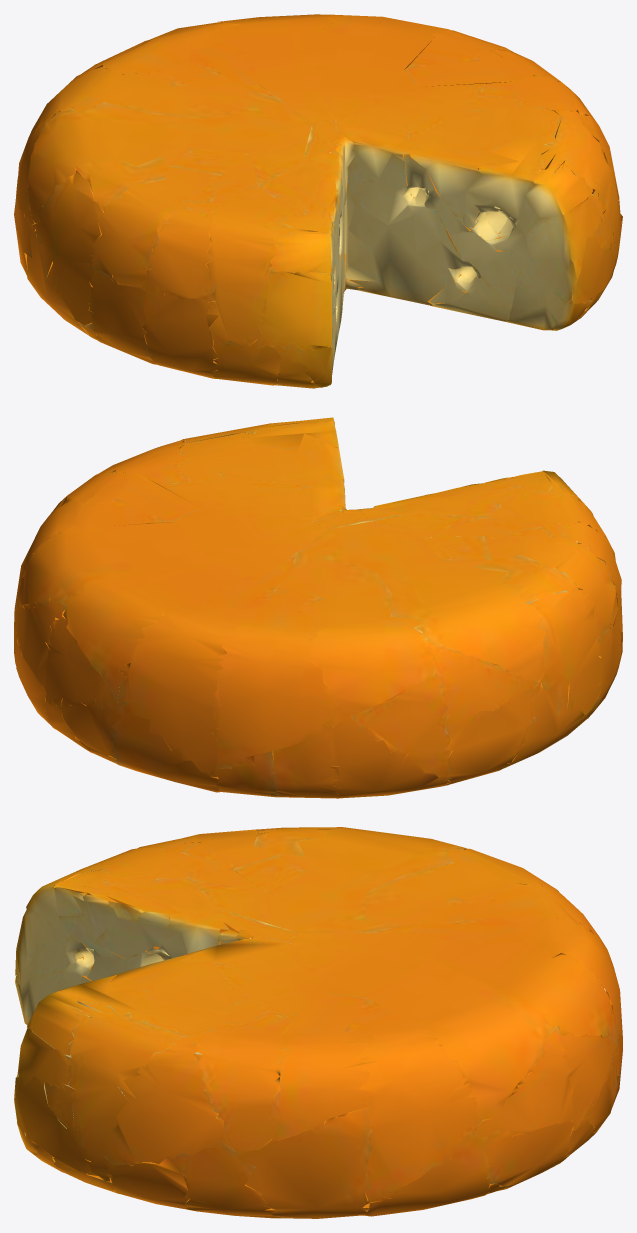
The model's file is cheese_wheel.glb.
The picture shows the model from 3 angles, top to bottom: view 1: azimuth 30°, elevation 25°; view 2: azimuth 150°, elevation 25°; view 3: azimuth 270°, elevation 25°; orthographic projection. The views are drawn at different scales.
Parts seen in each view (by area): view 1: cheese_wheel; view 2: cheese_wheel; view 3: cheese_wheel.
Part boxes in pixels (<box>): cheese_wheel: <box>14,14,622,388</box>; cheese_wheel: <box>14,417,622,798</box>; cheese_wheel: <box>14,827,622,1218</box>.
Size of the model in its own units: 0.142 by 0.0399 by 0.1376.
Materials: 1 (1 with a texture image).
